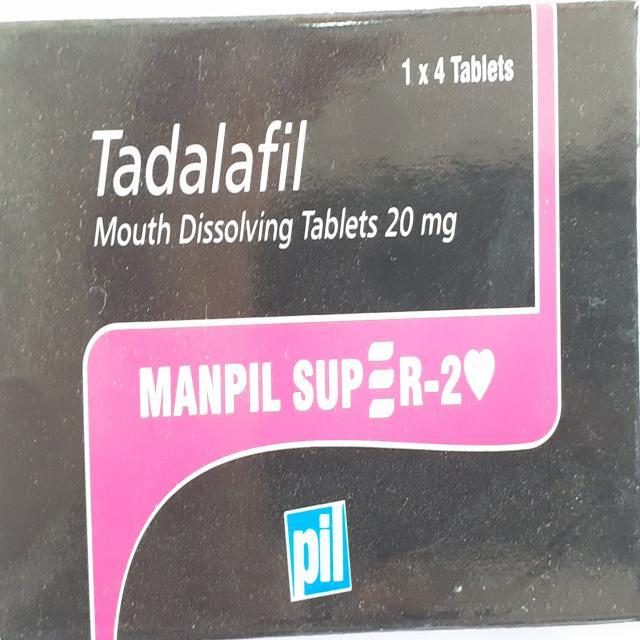drug-name: (130, 328, 498, 428)
